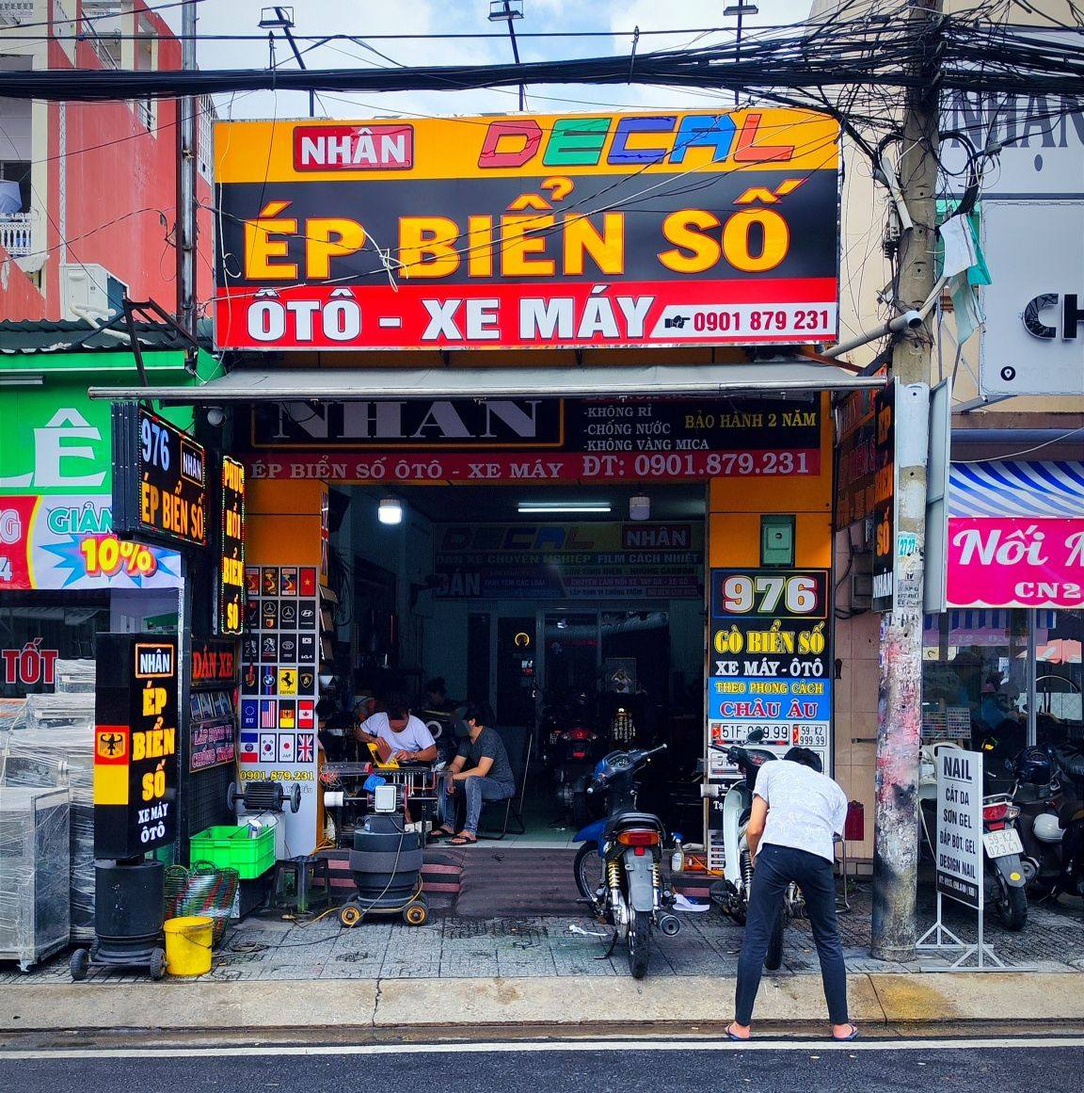bien_so: (985, 829, 1029, 861)
